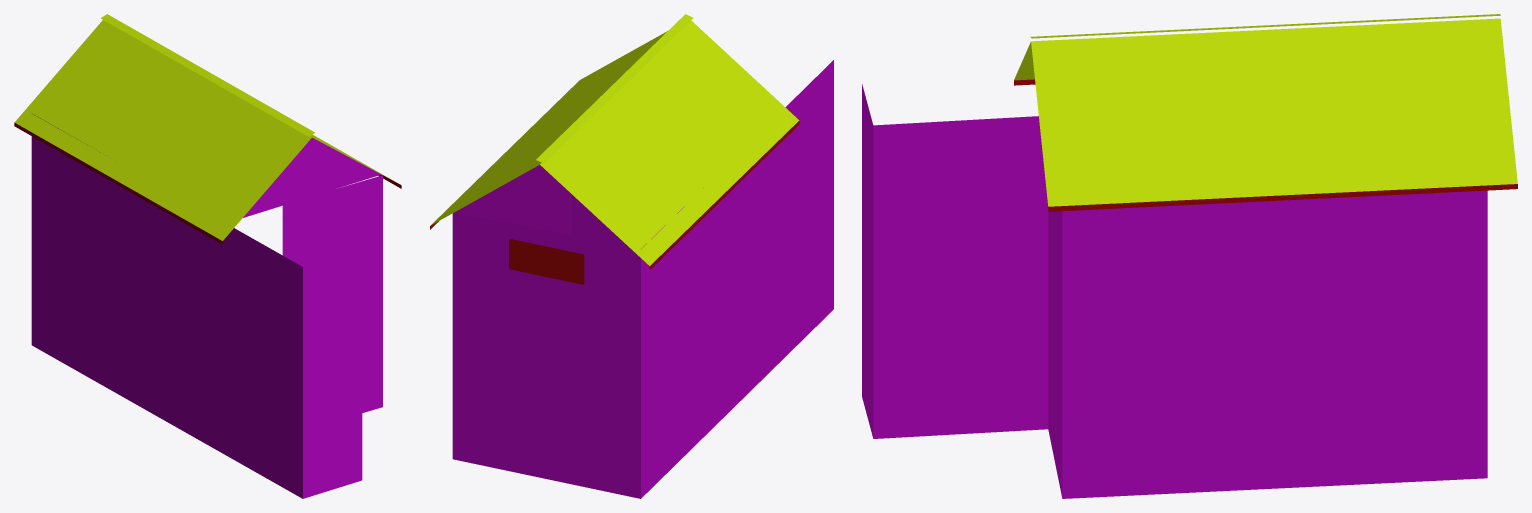
Rendered from bgj_204.glb.
3 views of the same model, side by side, from view 1: azimuth 30°, elevation 25°; view 2: azimuth 150°, elevation 25°; view 3: azimuth 270°, elevation 25° (orthographic). The views are drawn at different scales.
Parts seen in each view (by area): view 1: bgj_204; view 2: bgj_204; view 3: bgj_204.
Part boxes in pixels (<box>): bgj_204: <box>14,14,401,498</box>; bgj_204: <box>430,14,833,498</box>; bgj_204: <box>862,14,1517,498</box>.
Bounding box in the file's own units: 7.5 × 9.58 × 13.94.
